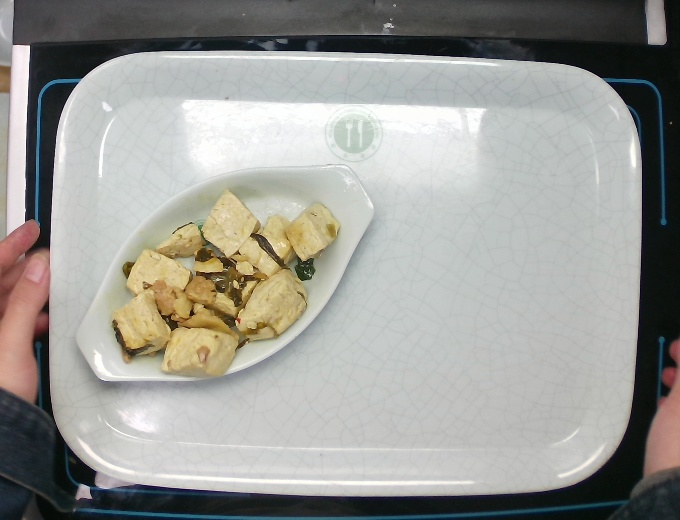JYsf-Yu_Pan: (71, 158, 379, 387)
